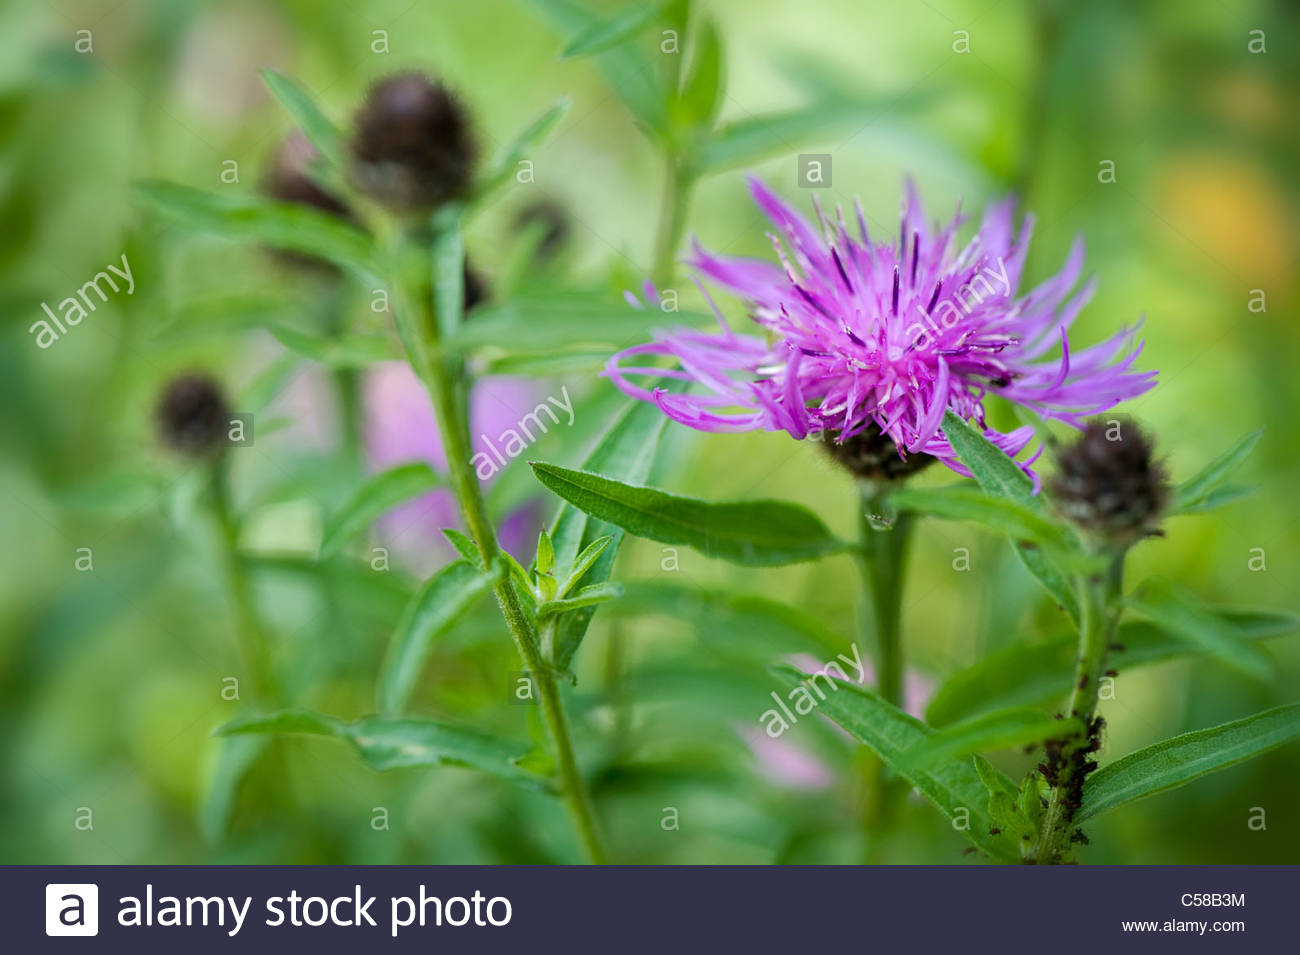thistle: (655, 162, 1135, 531)
